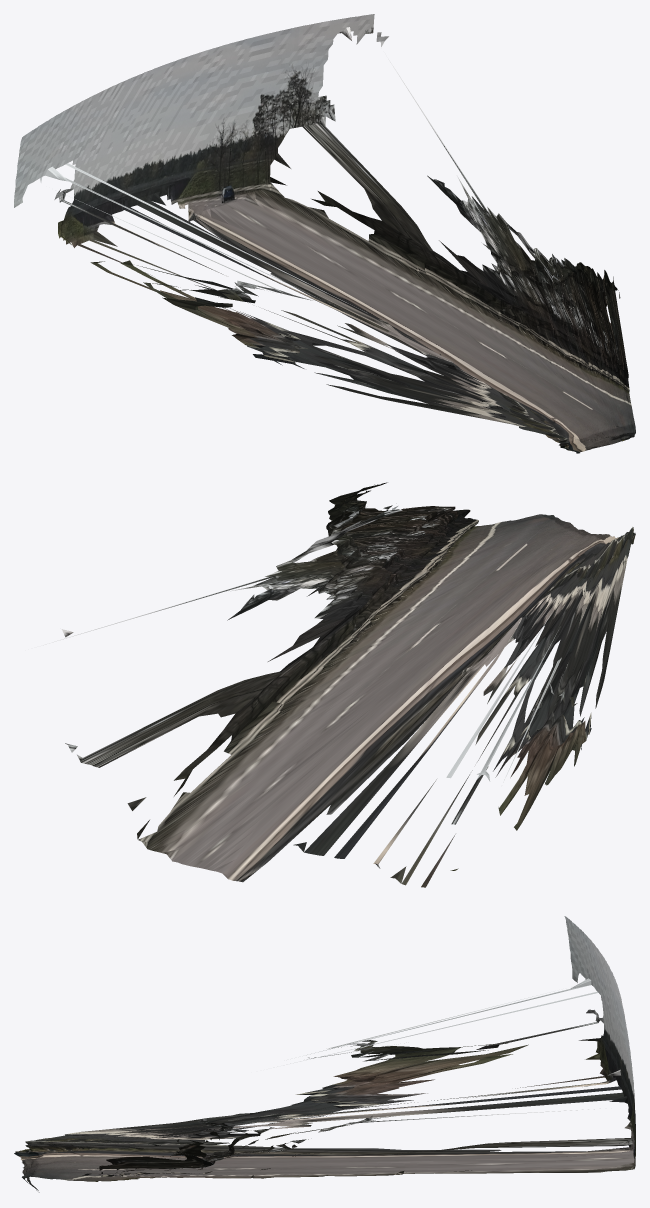
The picture shows the model from 3 angles, top to bottom: view 1: azimuth 30°, elevation 25°; view 2: azimuth 150°, elevation 25°; view 3: azimuth 270°, elevation 25°; orthographic projection. The views are drawn at different scales.
Parts seen in each view (by area): view 1: defaultobject; view 2: defaultobject; view 3: defaultobject.
Part boxes in pixels (x1,y1,x2,y2): defaultobject: (14,14,635,453); defaultobject: (43,482,635,887); defaultobject: (14,916,635,1192).
Size of the model in its own units: 29.5 by 12.25 by 44.89.
1 material, 1 textured.
